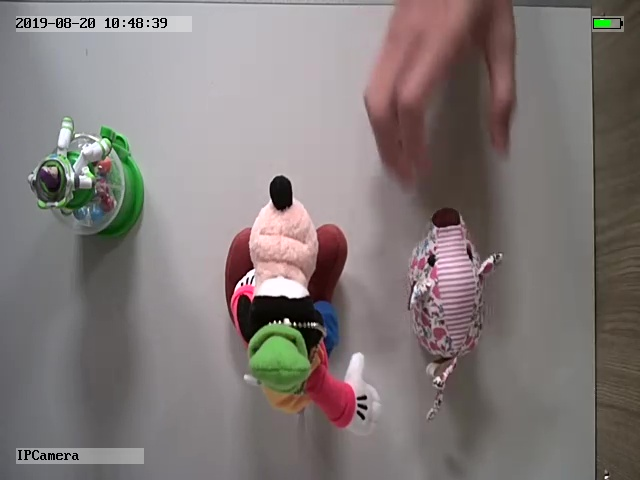buzz: (24, 116, 145, 239)
goofy: (222, 173, 384, 437)
pig: (405, 206, 505, 421)
